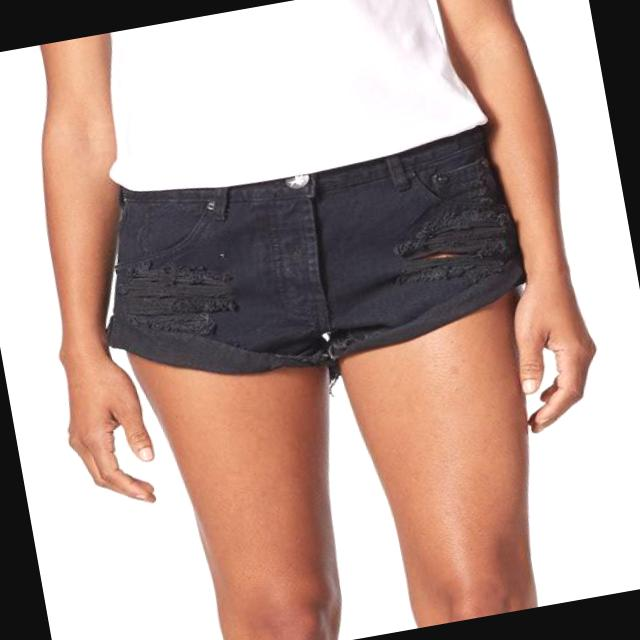short: (80, 121, 538, 403)
